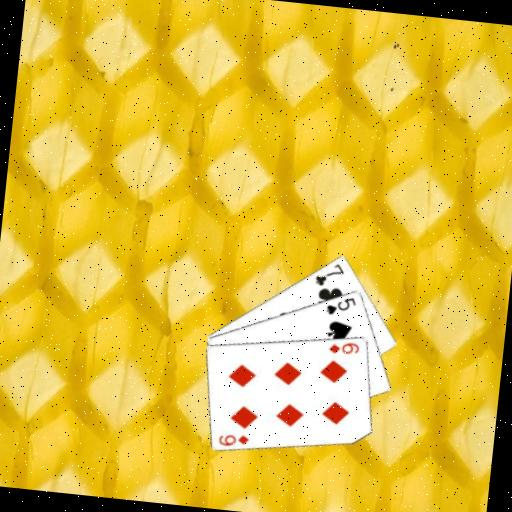5S: (323, 292, 358, 319)
6D: (326, 337, 362, 357), (215, 430, 251, 450)
7C: (312, 258, 347, 290)
